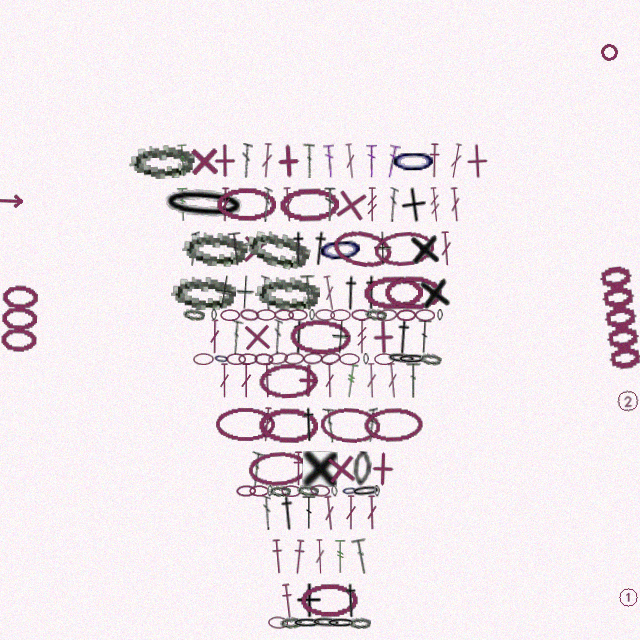chain: (159, 184, 249, 225), (242, 225, 313, 273), (330, 226, 394, 271), (129, 142, 195, 180), (373, 229, 435, 269), (182, 230, 248, 267), (319, 406, 382, 444), (247, 450, 309, 488), (255, 275, 320, 311), (289, 318, 351, 355), (171, 275, 236, 310), (258, 362, 318, 399), (258, 407, 318, 443), (363, 407, 423, 443), (363, 275, 423, 311), (279, 187, 339, 223), (215, 407, 276, 442), (384, 275, 443, 311), (216, 187, 276, 222), (300, 583, 359, 618), (315, 230, 366, 268), (389, 143, 438, 178), (352, 451, 372, 487), (386, 351, 417, 366), (350, 484, 382, 498), (311, 616, 341, 629), (292, 617, 322, 629), (326, 617, 356, 629), (397, 353, 427, 365), (267, 351, 289, 366), (419, 352, 442, 366), (320, 351, 341, 366), (376, 308, 398, 322), (239, 308, 260, 322), (280, 616, 302, 629), (297, 484, 319, 497), (183, 308, 205, 321), (365, 308, 387, 321), (349, 617, 371, 629), (269, 485, 291, 497), (268, 616, 288, 629), (310, 484, 330, 497), (284, 352, 304, 365), (303, 352, 323, 365), (193, 353, 214, 365), (339, 353, 360, 365), (374, 353, 395, 365), (330, 309, 351, 321), (236, 485, 256, 497), (249, 485, 269, 497), (281, 485, 301, 497), (226, 353, 246, 365), (238, 353, 258, 365), (254, 353, 274, 365), (220, 309, 240, 321), (256, 309, 276, 321), (274, 309, 294, 321), (288, 309, 308, 321), (315, 309, 335, 321), (351, 309, 371, 321), (396, 309, 416, 321), (415, 309, 435, 321), (341, 484, 358, 497), (213, 352, 230, 365), (331, 485, 338, 497), (267, 485, 273, 497), (374, 485, 380, 497), (363, 353, 369, 365), (211, 309, 217, 321), (309, 309, 315, 321), (437, 309, 443, 321)
double: (351, 538, 372, 575), (227, 231, 245, 267), (248, 451, 265, 487), (321, 275, 338, 311), (384, 143, 401, 179), (300, 275, 317, 310), (322, 407, 338, 443), (228, 319, 244, 355), (448, 143, 464, 179), (322, 495, 337, 531), (343, 143, 358, 179), (385, 363, 400, 398), (406, 363, 421, 398), (417, 319, 432, 354), (302, 495, 316, 530), (260, 407, 274, 442), (439, 231, 453, 266), (281, 187, 295, 222), (239, 143, 253, 178), (260, 143, 274, 178), (365, 363, 378, 398), (260, 187, 273, 222), (449, 187, 462, 222), (302, 143, 315, 178), (323, 143, 336, 178), (314, 539, 326, 574), (345, 495, 357, 530), (366, 495, 378, 530), (366, 407, 378, 442), (240, 363, 252, 398), (188, 231, 200, 266), (219, 187, 231, 222), (324, 187, 336, 222), (387, 187, 399, 222), (219, 363, 230, 398), (324, 363, 335, 398), (209, 319, 220, 354), (272, 319, 283, 354), (261, 275, 272, 310), (366, 143, 377, 178), (262, 495, 272, 530)
enseble_chain: (594, 263, 640, 376), (0, 284, 41, 355)
half_double: (308, 230, 332, 267), (392, 319, 415, 355), (277, 495, 299, 531), (288, 319, 310, 355), (340, 275, 362, 311), (361, 275, 382, 310), (288, 231, 309, 266), (341, 583, 361, 618), (299, 407, 319, 442), (279, 583, 296, 619), (291, 539, 307, 575), (270, 539, 285, 574), (260, 363, 274, 398), (292, 451, 305, 486), (428, 143, 441, 178)
noise: (615, 388, 640, 414), (617, 586, 640, 609), (599, 42, 620, 63), (0, 194, 25, 208)
single: (331, 185, 371, 225), (322, 450, 360, 488), (417, 273, 453, 312), (302, 451, 338, 487), (365, 451, 401, 487), (239, 319, 275, 355), (365, 319, 401, 355), (239, 231, 275, 267), (186, 143, 222, 179), (270, 143, 306, 179), (459, 143, 495, 179), (408, 230, 442, 267), (291, 363, 326, 398), (207, 143, 242, 178), (398, 186, 429, 224), (295, 583, 322, 618), (213, 274, 236, 311), (331, 319, 351, 355), (236, 275, 256, 310), (374, 231, 392, 266)
treble: (343, 363, 359, 399), (176, 187, 190, 222), (428, 187, 442, 222), (176, 143, 190, 178), (334, 539, 347, 574), (356, 319, 368, 354), (366, 187, 378, 222)
